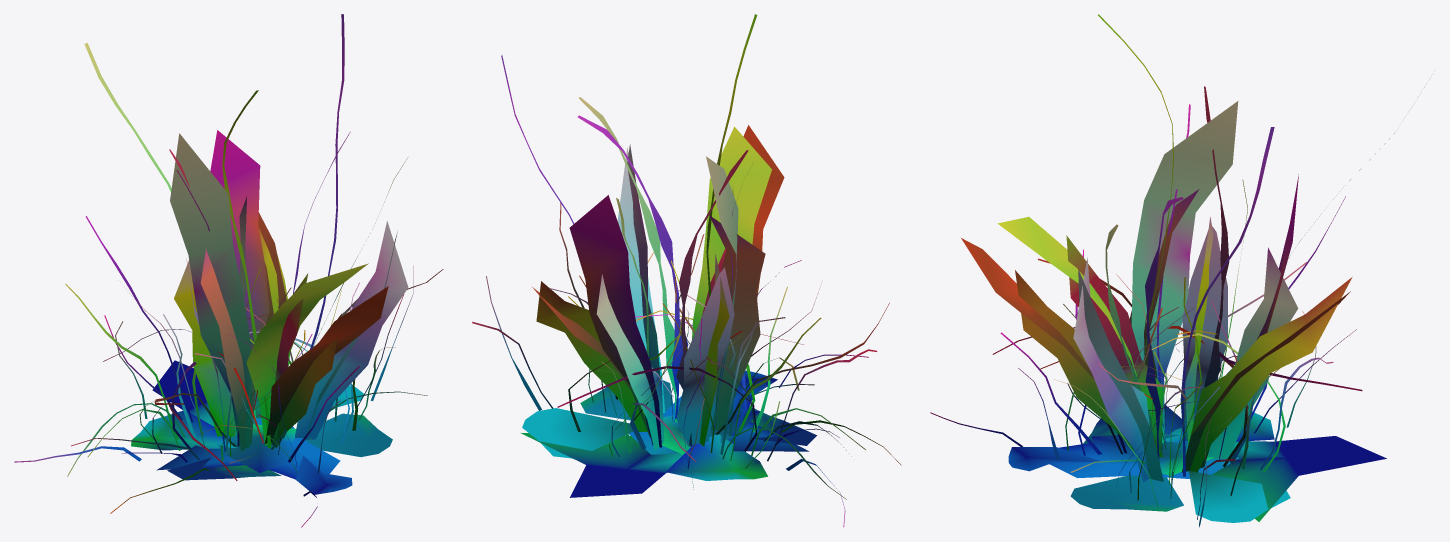
Rendered from uddmcgbia_VarJ_LOD0.fbx.
The picture shows the model from 3 angles, left to right: view 1: azimuth 30°, elevation 25°; view 2: azimuth 150°, elevation 25°; view 3: azimuth 270°, elevation 25°; orthographic projection. The views are drawn at different scales.
Parts seen in each view (by area): view 1: _e4e2_VarJ_LOD0; view 2: _e4e2_VarJ_LOD0; view 3: _e4e2_VarJ_LOD0.
Part boxes in pixels (left/top/right/bottom): _e4e2_VarJ_LOD0: left=14, top=14, right=443, bottom=527; _e4e2_VarJ_LOD0: left=472, top=14, right=901, bottom=527; _e4e2_VarJ_LOD0: left=930, top=14, right=1424, bottom=527.
Size of the model in its own units: 23.33 by 23.45 by 24.7.
